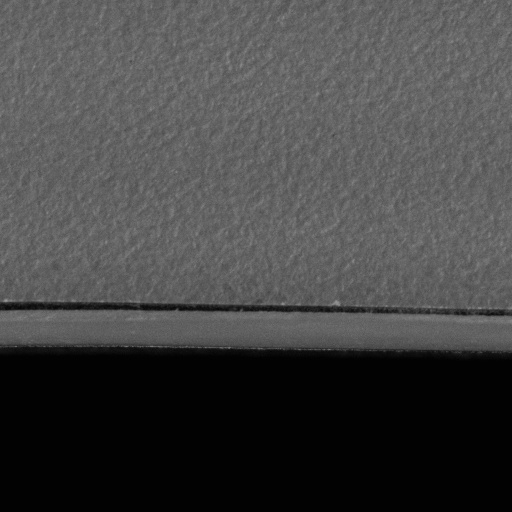jiaofeng: (2, 298, 511, 334)
